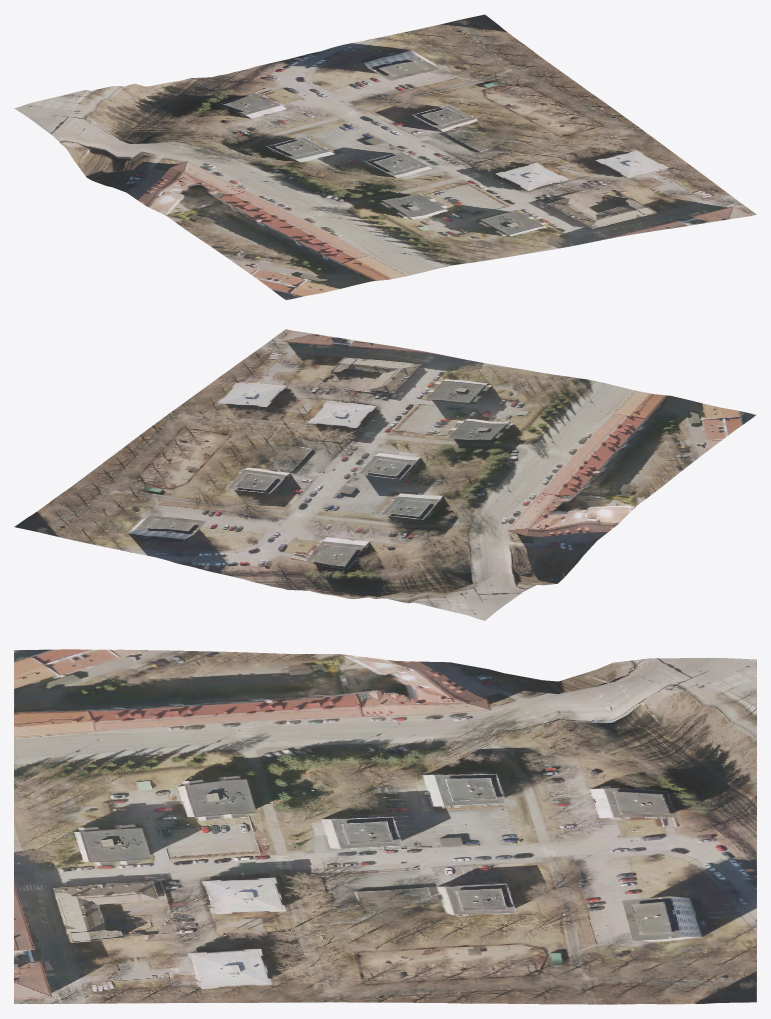
File: CM_Terrain_24485954_6821227.fbx
3 renders of one model, top to bottom at view 1: azimuth 30°, elevation 25°; view 2: azimuth 150°, elevation 25°; view 3: azimuth 270°, elevation 25°, orthographic. The views are drawn at different scales.
Parts seen in each view (by area): view 1: CM_Terrain_24485954_6821227_LOD0; view 2: CM_Terrain_24485954_6821227_LOD0; view 3: CM_Terrain_24485954_6821227_LOD0.
Boxes of the visible parts, x1,y1,x2,y2 form: CM_Terrain_24485954_6821227_LOD0: [14, 14, 756, 300]; CM_Terrain_24485954_6821227_LOD0: [14, 329, 756, 620]; CM_Terrain_24485954_6821227_LOD0: [14, 649, 756, 1004].
Size of what is drawn, in the model's own units: 205 by 12.56 by 205.
